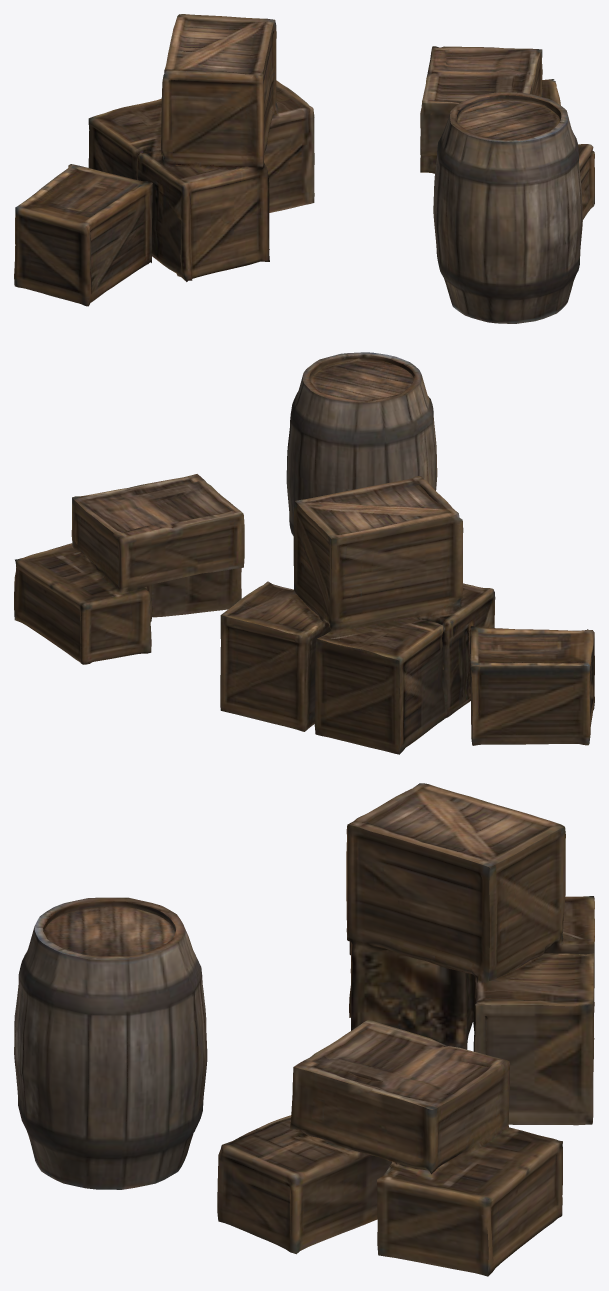
The model's file is crate_set.glb.
3 renders of one model, top to bottom at view 1: azimuth 30°, elevation 25°; view 2: azimuth 150°, elevation 25°; view 3: azimuth 270°, elevation 25°, orthographic. The views are drawn at different scales.
Parts seen in each view (by area): view 1: Mesh0; view 2: Mesh0; view 3: Mesh0.
Boxes of the visible parts, x1,y1,x2,y2 form: Mesh0: (14, 14, 594, 323); Mesh0: (14, 352, 594, 754); Mesh0: (14, 783, 594, 1276).
Bounding box in the file's own units: 2 × 0.6548 × 1.43.
1 material, 1 textured.
